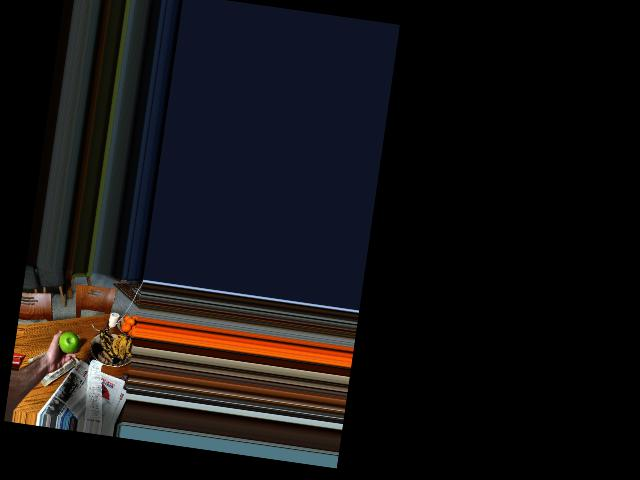apple: (57, 325, 81, 358)
